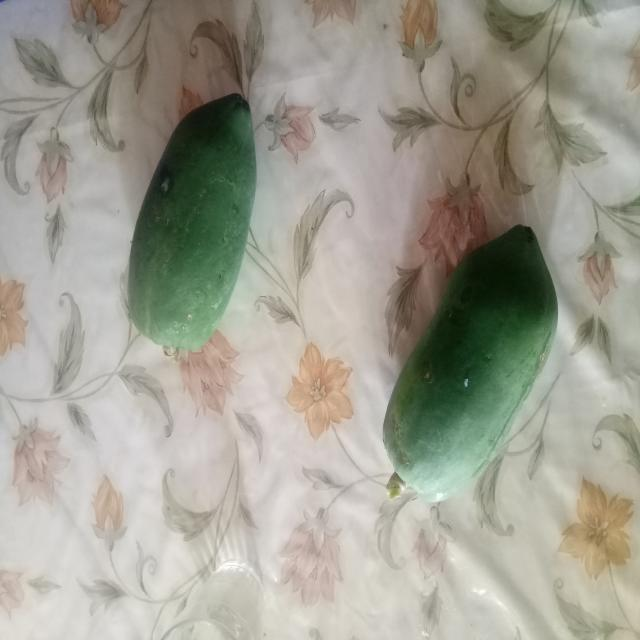Pepaya unrippen: (373, 221, 564, 496), (124, 82, 256, 354)
